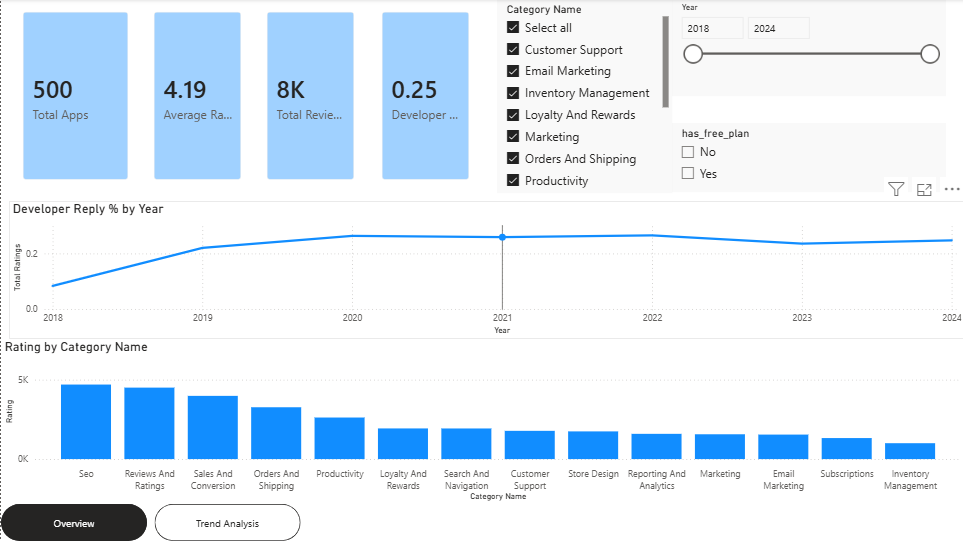

Layout of this report page (visuals, bound fields, positions):
{"tool":"powerbi","page":{"name":"Overview","canvas":[1280,720],"ordinal":0},"visuals":[{"type":"slicer","fields":{"Values":["apps.category_name"]},"box":[658.5,0,232.7,257.6],"z":3000},{"type":"slicer","fields":{"Values":["Dim_Date.Year"]},"box":[891.2,0,364.4,128.8],"z":4000},{"type":"slicer","fields":{"Values":["apps.has_free_plan"]},"box":[891.2,165.4,364.4,92.2],"z":5000},{"type":"lineChart","fields":{"Category":["Dim_Date.Date.Variation.Date Hierarchy.Year"],"Y":["reviews.Developer Reply %"]},"box":[10.8,268.9,1270.3,182.4],"z":6000},{"type":"columnChart","fields":{"Category":["apps.category_name"],"Y":["Sum(reviews.rating)"]},"box":[0,452.2,1280.5,219.5],"z":7000},{"type":"cardVisual","fields":{"Data":["apps.Total Apps"]},"box":[11.7,0,174.1,257.6],"z":8001},{"type":"cardVisual","fields":{"Data":["reviews.Average Rating"]},"box":[185.9,0,150.7,257.6],"z":8002},{"type":"cardVisual","fields":{"Data":["reviews.Total Reviews"]},"box":[336.6,0,150.7,257.6],"z":8003},{"type":"cardVisual","fields":{"Data":["reviews.Developer Reply %"]},"box":[488.8,0,150.7,257.6],"z":8004},{"type":"pageNavigator","box":[0,670.2,399.5,49.8],"z":8005}]}

Visuals, with their boxes on the page's 1280x720 design canvas (x1, y1, x2, y2). These are canvas units, not pixel positions in the 963x541 screenshot, which may show the page scaled, cropped or inside an application window:
slicer - apps.category_name: 658/0/891/258
slicer - Dim_Date.Year: 891/0/1256/129
slicer - apps.has_free_plan: 891/165/1256/258
lineChart - Dim_Date.Date.Variation.Date Hierarchy.Year x reviews.Developer Reply %: 11/269/1281/451
columnChart - apps.category_name x Sum(reviews.rating): 0/452/1280/672
cardVisual - apps.Total Apps: 12/0/186/258
cardVisual - reviews.Average Rating: 186/0/337/258
cardVisual - reviews.Total Reviews: 337/0/487/258
cardVisual - reviews.Developer Reply %: 489/0/640/258
pageNavigator: 0/670/400/720
